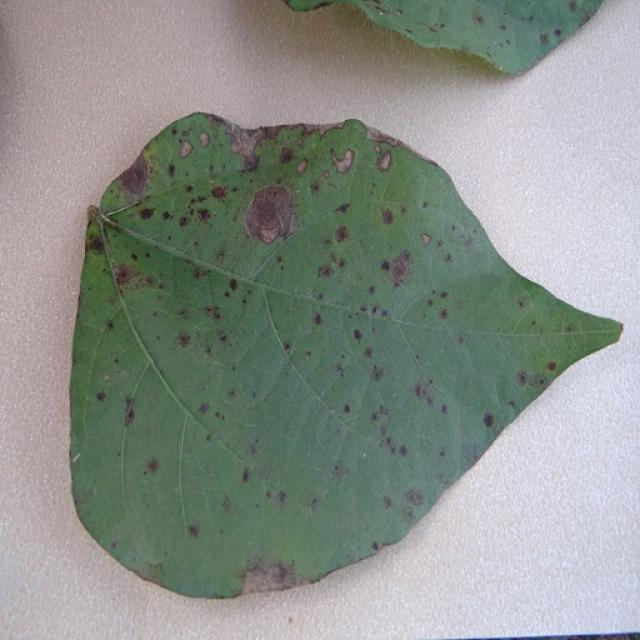Anthracnose: (545, 296, 622, 365), (247, 181, 300, 251), (239, 561, 313, 595), (372, 403, 409, 460), (111, 259, 161, 292), (228, 126, 264, 169), (378, 249, 414, 288), (117, 158, 149, 197), (297, 120, 350, 138), (330, 147, 355, 175), (516, 369, 549, 388), (132, 564, 163, 583), (357, 303, 389, 320), (85, 204, 108, 226), (412, 381, 433, 405), (87, 232, 105, 255), (123, 397, 136, 425), (278, 145, 295, 164), (405, 489, 424, 506), (334, 225, 350, 244), (332, 463, 348, 481), (144, 457, 160, 474), (175, 331, 191, 348), (204, 305, 222, 320), (378, 152, 392, 171), (179, 140, 193, 158), (192, 266, 210, 280), (213, 248, 227, 265), (370, 366, 385, 381), (211, 186, 227, 200), (375, 404, 389, 420), (195, 207, 210, 221), (381, 209, 394, 225), (222, 498, 234, 514), (187, 524, 200, 538), (335, 202, 350, 214), (483, 413, 495, 428), (199, 131, 210, 147), (461, 234, 473, 248), (227, 278, 239, 291), (216, 330, 228, 343), (197, 402, 209, 415), (473, 12, 484, 26), (277, 491, 288, 505), (517, 296, 529, 308), (363, 346, 374, 359), (438, 308, 449, 320), (421, 233, 431, 246), (383, 496, 393, 509), (242, 468, 251, 482), (167, 163, 176, 177), (310, 182, 321, 193), (539, 33, 549, 45), (96, 391, 106, 403), (353, 328, 362, 341), (313, 313, 322, 326), (546, 361, 557, 371), (381, 260, 391, 271), (105, 319, 115, 330), (161, 210, 171, 220), (178, 217, 188, 227), (227, 389, 237, 399), (457, 334, 466, 345), (311, 497, 319, 509), (270, 189, 279, 199), (342, 404, 351, 414), (367, 285, 376, 295), (283, 343, 291, 354), (427, 25, 438, 33), (553, 28, 562, 37), (185, 184, 194, 193), (131, 252, 139, 262), (439, 291, 449, 299), (499, 23, 508, 31), (323, 170, 330, 179), (375, 144, 381, 154), (566, 326, 574, 333), (305, 350, 311, 358), (531, 320, 537, 327)
Blackgram: (66, 112, 624, 602)
